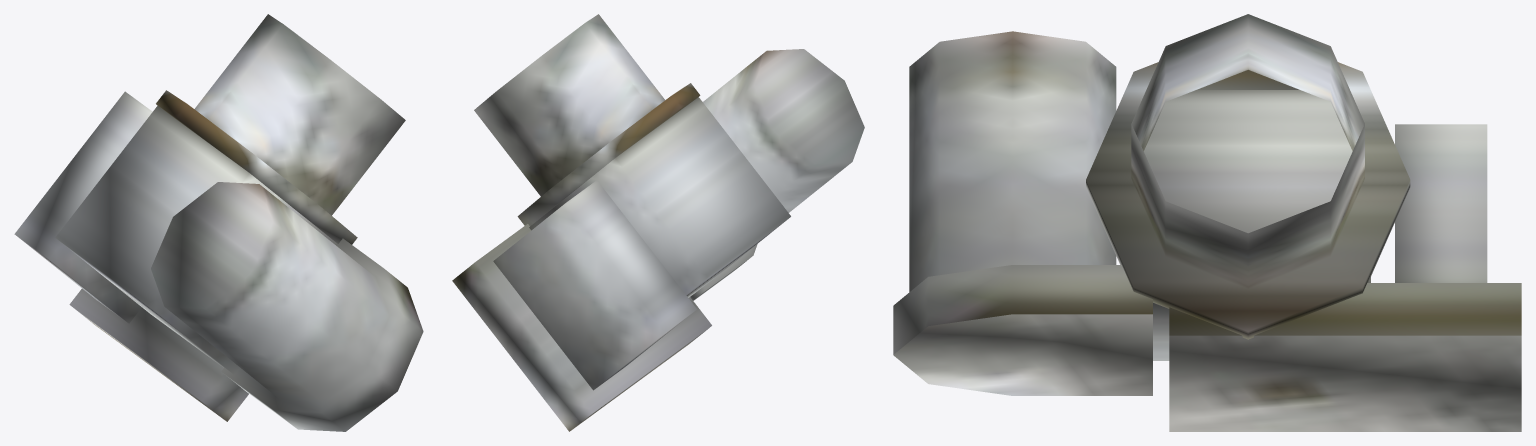
Rendered from shoulder_roll.dae.
3 renders of one model, left to right at view 1: azimuth 30°, elevation 25°; view 2: azimuth 150°, elevation 25°; view 3: azimuth 270°, elevation 25°, orthographic. The views are drawn at different scales.
Visible parts, largest first — view 1: 29 DEXTRE.010; view 2: 29 DEXTRE.010; view 3: 29 DEXTRE.010.
Boxes of the visible parts, x1,y1,x2,y2 form: 29 DEXTRE.010: [14, 14, 423, 431]; 29 DEXTRE.010: [452, 14, 864, 431]; 29 DEXTRE.010: [893, 14, 1521, 431].
Size of the model in its own units: 0.5525 by 0.7175 by 0.5965.
1 material, 1 textured.
